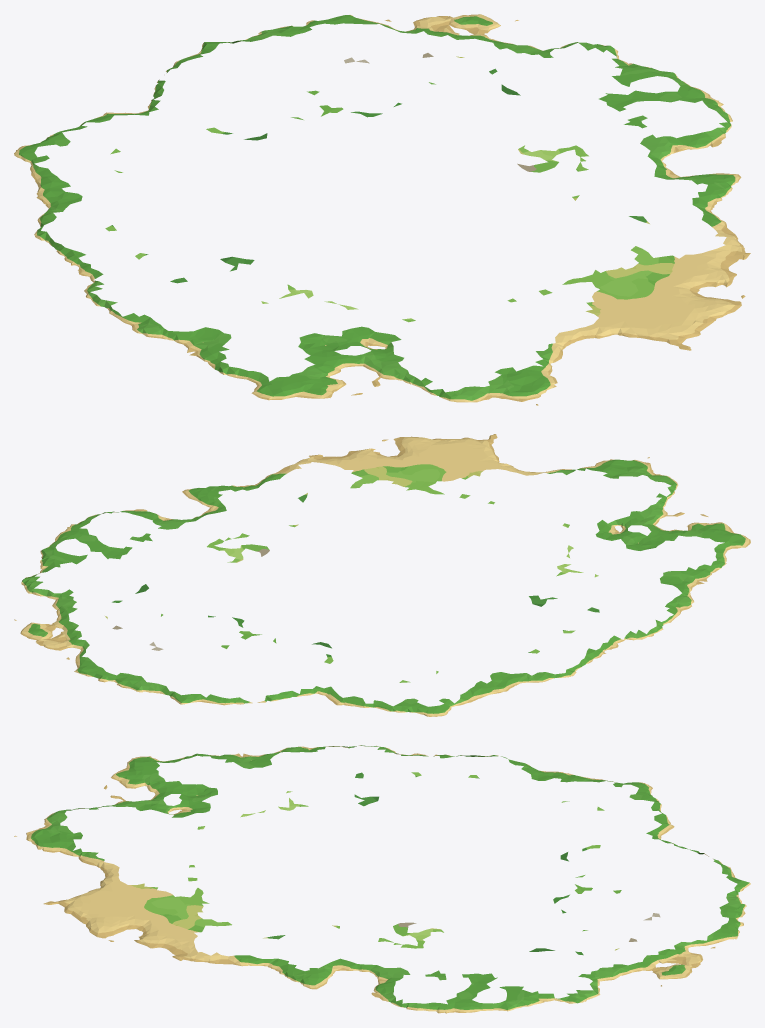
Rendered from Isl-rocky2-Ground.fbx.
3 renders of one model, top to bottom at view 1: azimuth 30°, elevation 25°; view 2: azimuth 150°, elevation 25°; view 3: azimuth 270°, elevation 25°, orthographic. The views are drawn at different scales.
Visible parts, largest first — view 1: Isl-rocky2-Ground-c21, Isl-rocky2-Ground-c11, Isl-rocky2-Ground-c22, Isl-rocky2-Ground-c12; view 2: Isl-rocky2-Ground-c21, Isl-rocky2-Ground-c11, Isl-rocky2-Ground-c22, Isl-rocky2-Ground-c12; view 3: Isl-rocky2-Ground-c21, Isl-rocky2-Ground-c11, Isl-rocky2-Ground-c22, Isl-rocky2-Ground-c12.
Part boxes in pixels (x1,y1,x2,y2): Isl-rocky2-Ground-c21: (517, 114, 750, 350); Isl-rocky2-Ground-c11: (79, 254, 605, 402); Isl-rocky2-Ground-c22: (205, 14, 728, 157); Isl-rocky2-Ground-c12: (14, 42, 303, 273); Isl-rocky2-Ground-c21: (89, 434, 506, 556); Isl-rocky2-Ground-c11: (459, 459, 750, 647); Isl-rocky2-Ground-c22: (14, 516, 261, 703); Isl-rocky2-Ground-c12: (180, 630, 616, 716); Isl-rocky2-Ground-c21: (43, 881, 417, 1010); Isl-rocky2-Ground-c11: (26, 745, 418, 883); Isl-rocky2-Ground-c22: (415, 880, 750, 1013); Isl-rocky2-Ground-c12: (415, 753, 750, 883).
Size of the model in its own units: 83.36 by 0.4897 by 96.94.
